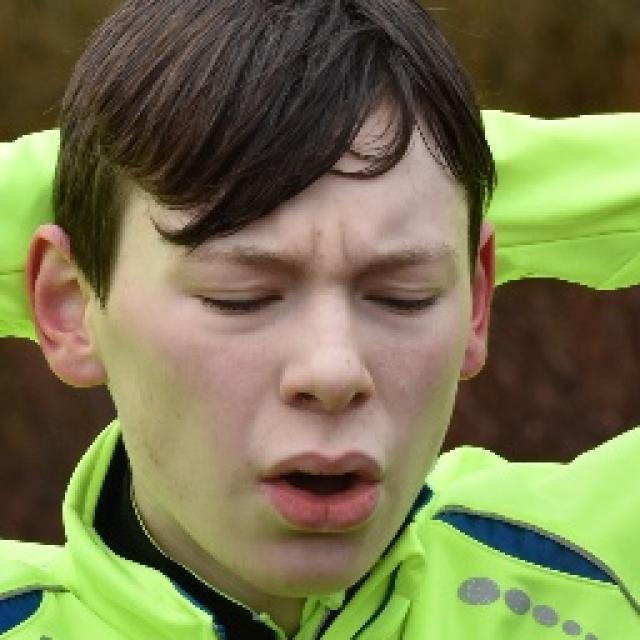earlobe: (25, 223, 112, 389), (461, 220, 497, 383)
